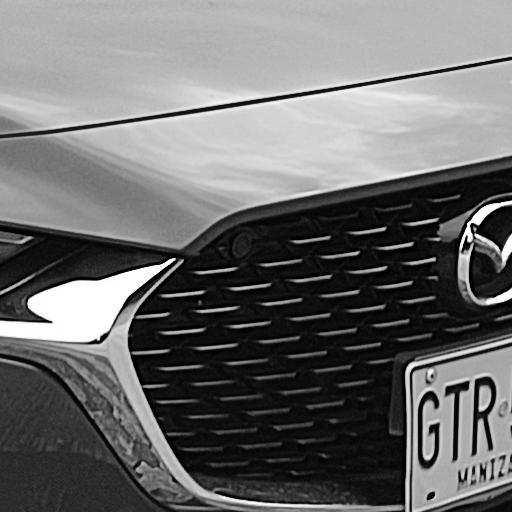placa: (404, 340, 512, 512)
